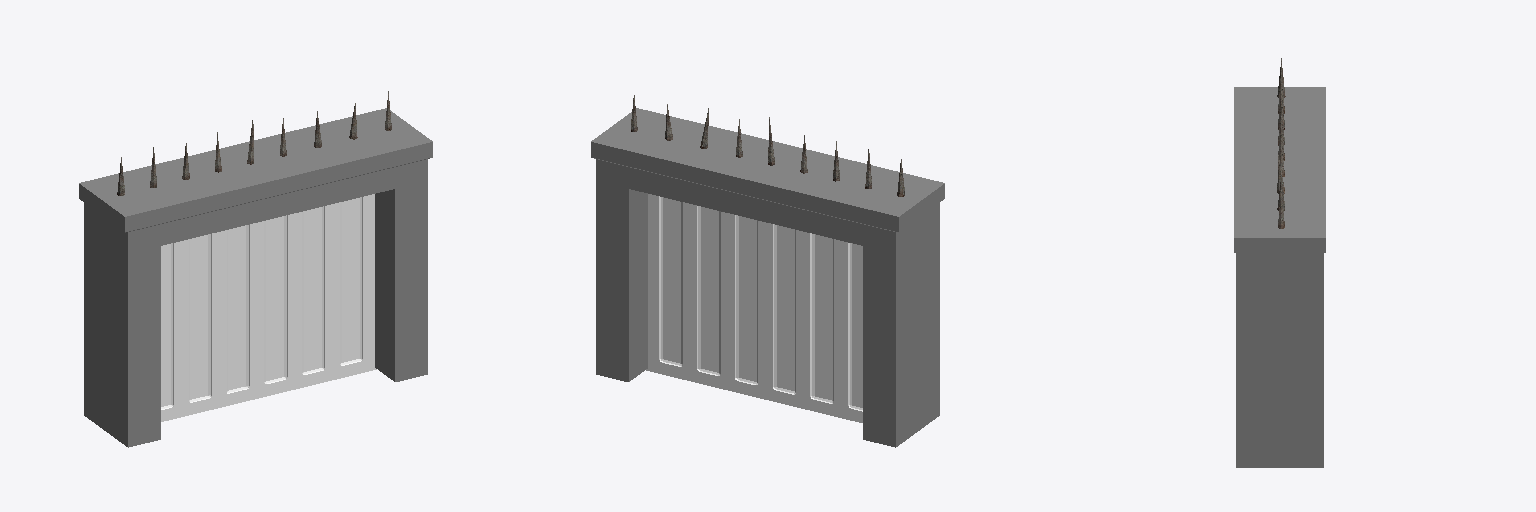
3 views of the same model, side by side, from view 1: azimuth 30°, elevation 25°; view 2: azimuth 150°, elevation 25°; view 3: azimuth 270°, elevation 25° (orthographic).
Visible parts, largest first — view 1: Box006, Box002; view 2: Box006, Box002; view 3: Box006.
Boxes of the visible parts, box(x1,y1,x2,y2) form: Box006: box(79, 108, 432, 447); Box002: box(161, 194, 376, 421); Box006: box(591, 108, 944, 447); Box002: box(646, 194, 862, 422); Box006: box(1234, 87, 1325, 467).
Bounding box in the file's own units: 5.23 × 4.59 × 1.36.
Materials: 3 (1 with a texture image).